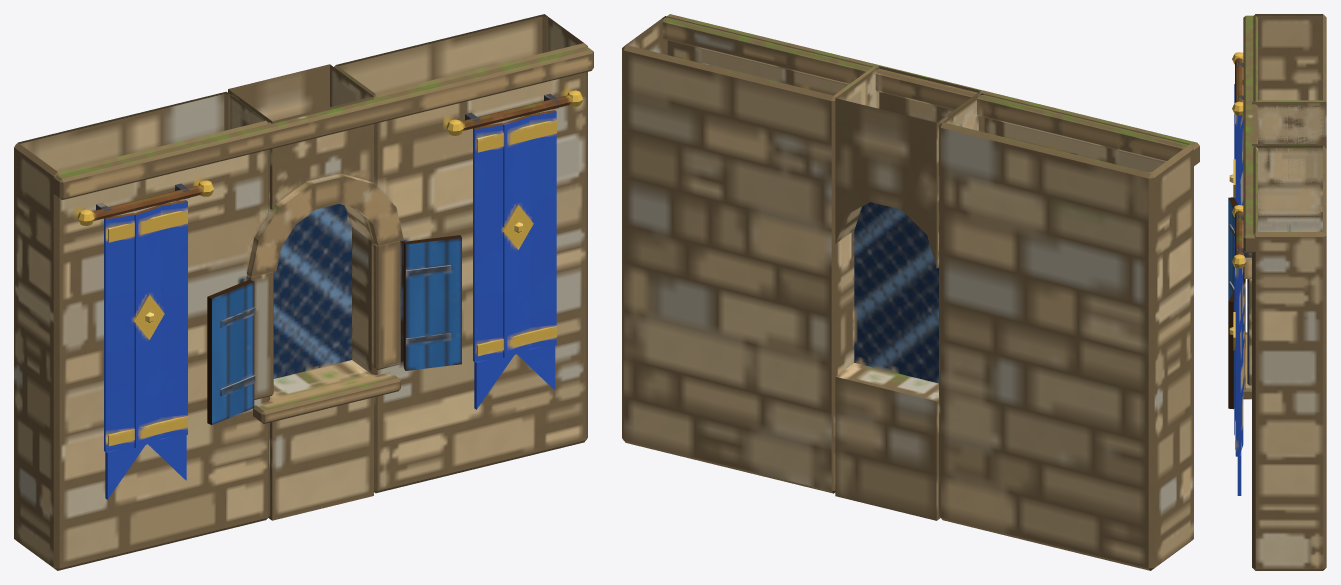
File: Kit_Keep_WallBanner.fbx
The picture shows the model from 3 angles, left to right: view 1: azimuth 30°, elevation 25°; view 2: azimuth 150°, elevation 25°; view 3: azimuth 270°, elevation 25°; orthographic projection. The views are drawn at different scales.
Visible parts, largest first — view 1: Kit_Keep_WallBanner_LOD0; view 2: Kit_Keep_WallBanner_LOD0; view 3: Kit_Keep_WallBanner_LOD0.
Part boxes in pixels (box(x1,y1,x2,y2)): Kit_Keep_WallBanner_LOD0: box(14, 14, 593, 570); Kit_Keep_WallBanner_LOD0: box(622, 14, 1199, 570); Kit_Keep_WallBanner_LOD0: box(1228, 14, 1326, 570).
Size of what is drawn, in the model's own units: 4.2 by 3 by 0.7896.
1 material, 1 textured.
